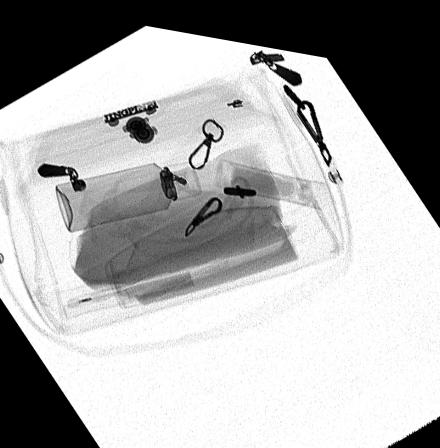Sprayer: (55, 154, 200, 230)
